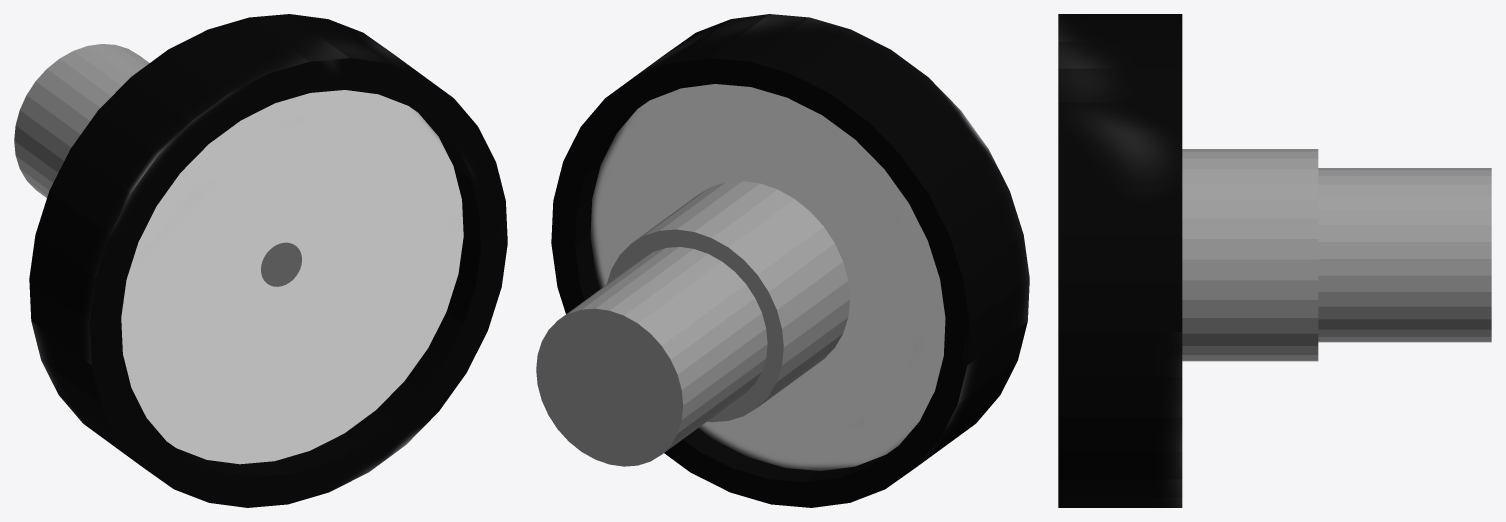
The model's file is wheel .glb.
The picture shows the model from 3 angles, left to right: view 1: azimuth 30°, elevation 25°; view 2: azimuth 150°, elevation 25°; view 3: azimuth 270°, elevation 25°; orthographic projection. The views are drawn at different scales.
Visible parts, largest first — view 1: Circle, Circle.002; view 2: Circle, Circle.002; view 3: Circle, Circle.002.
Boxes of the visible parts, bbox=[...] form: Circle: bbox=[29, 14, 507, 507]; Circle.002: bbox=[14, 44, 301, 286]; Circle: bbox=[551, 14, 1029, 507]; Circle.002: bbox=[536, 181, 849, 466]; Circle: bbox=[1058, 14, 1182, 507]; Circle.002: bbox=[1182, 149, 1491, 361].
Bounding box in the file's own units: 0.6989 × 0.6989 × 0.6112.
2 materials, 2 textured.
